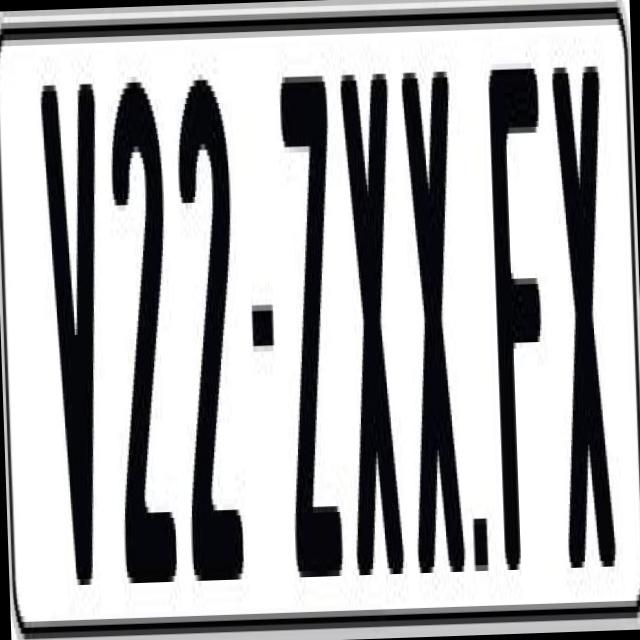2: (172, 78, 244, 592), (108, 75, 176, 577)
F: (486, 56, 554, 582)
V: (35, 71, 117, 609)
X: (399, 59, 470, 585), (337, 72, 409, 580), (551, 49, 616, 568)
Z: (275, 58, 349, 590)
